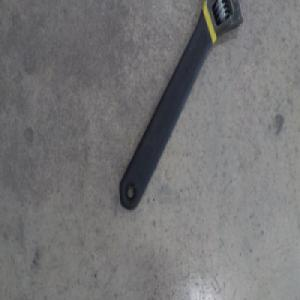AdjustableWrench: (118, 0, 244, 211)
